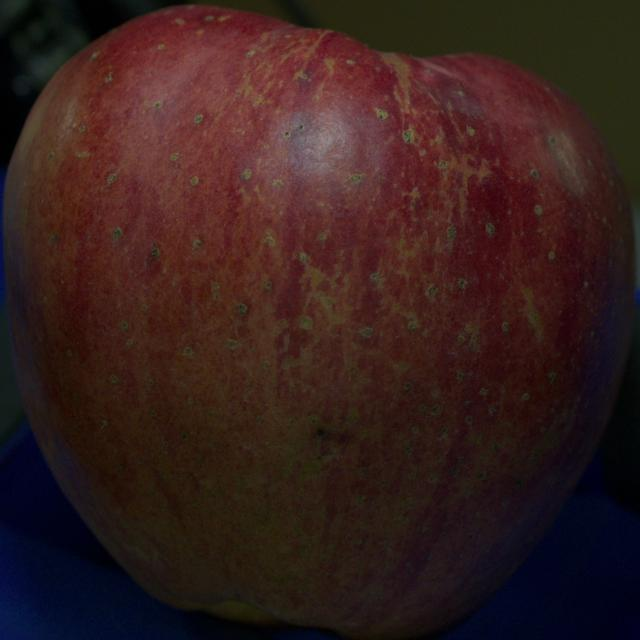apple: (3, 5, 634, 639)
pest: (317, 430, 326, 436)
